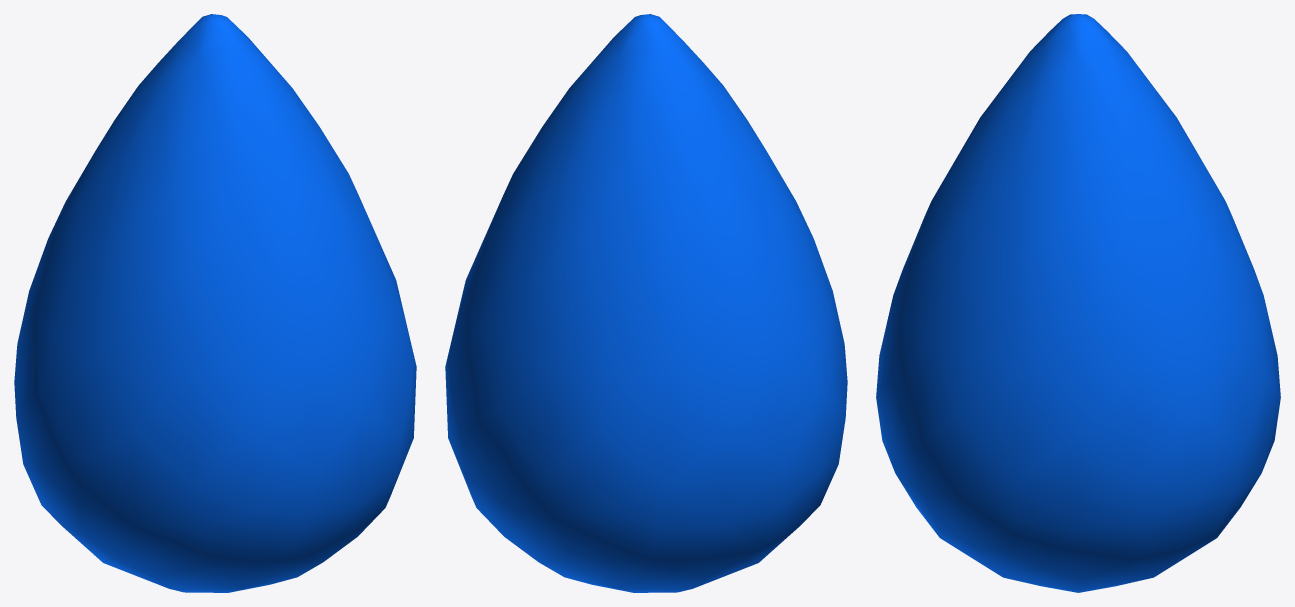
The model's file is Water_Droplet.fbx.
3 renders of one model, left to right at view 1: azimuth 30°, elevation 25°; view 2: azimuth 150°, elevation 25°; view 3: azimuth 270°, elevation 25°, orthographic.
Visible parts, largest first — view 1: Icosphere; view 2: Icosphere; view 3: Icosphere.
Part boxes in pixels (bbox=[...]): Icosphere: bbox=[14, 14, 416, 592]; Icosphere: bbox=[445, 14, 847, 592]; Icosphere: bbox=[876, 14, 1280, 592].
Bounding box in the file's own units: 130 × 201 × 132.
